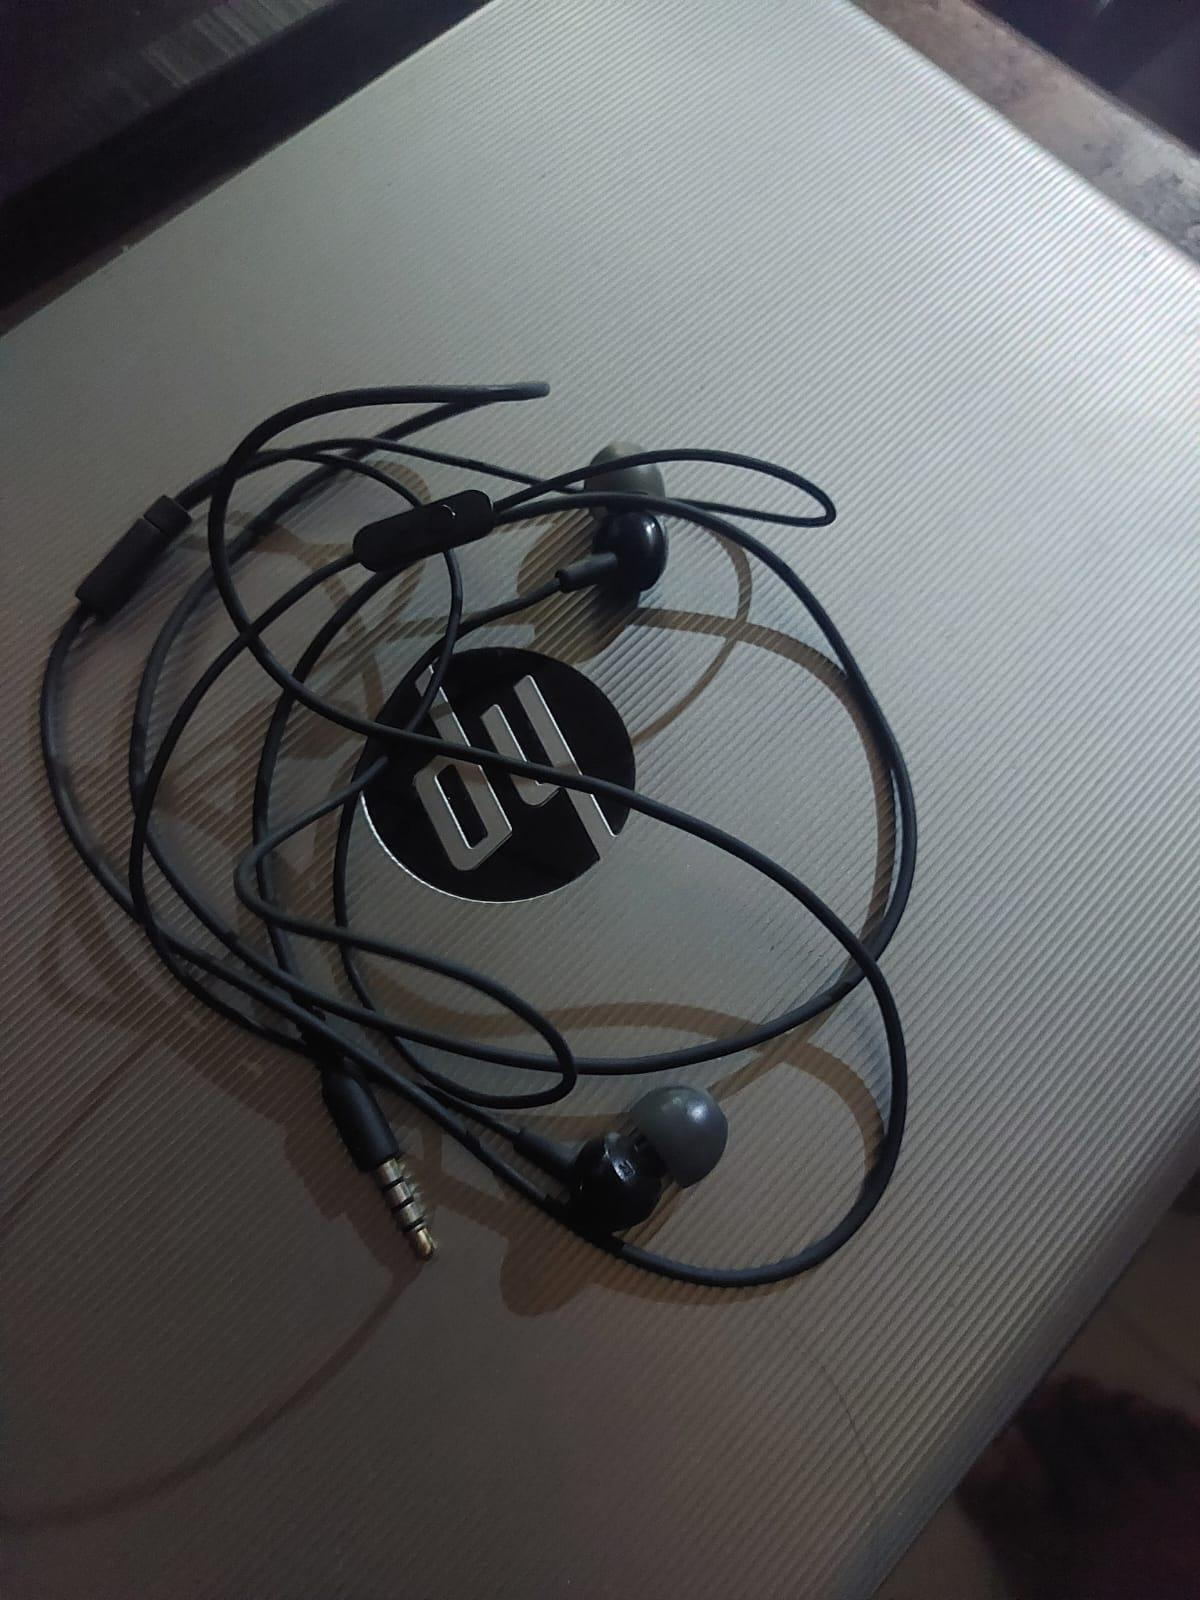Earphone: (512, 1071, 763, 1256), (552, 409, 692, 606)
